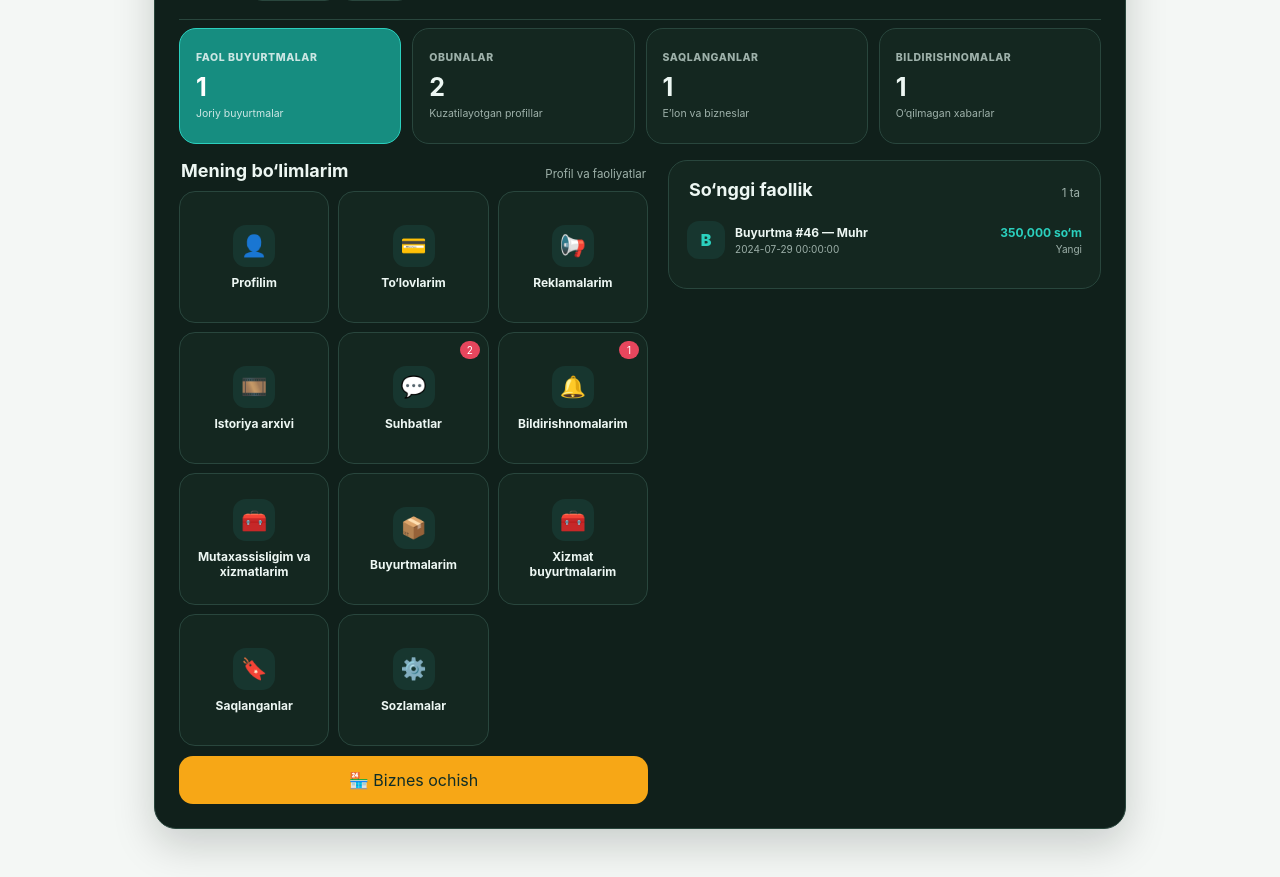
Test: profile cabinets › offers v1656 business opening when the user has no linked business
The image size is (1280, 877).
(page scrolled)
Click the button "🏪 Biznes ochish". click: (414, 780)
box: [179,756,648,804]
(page scrolled)
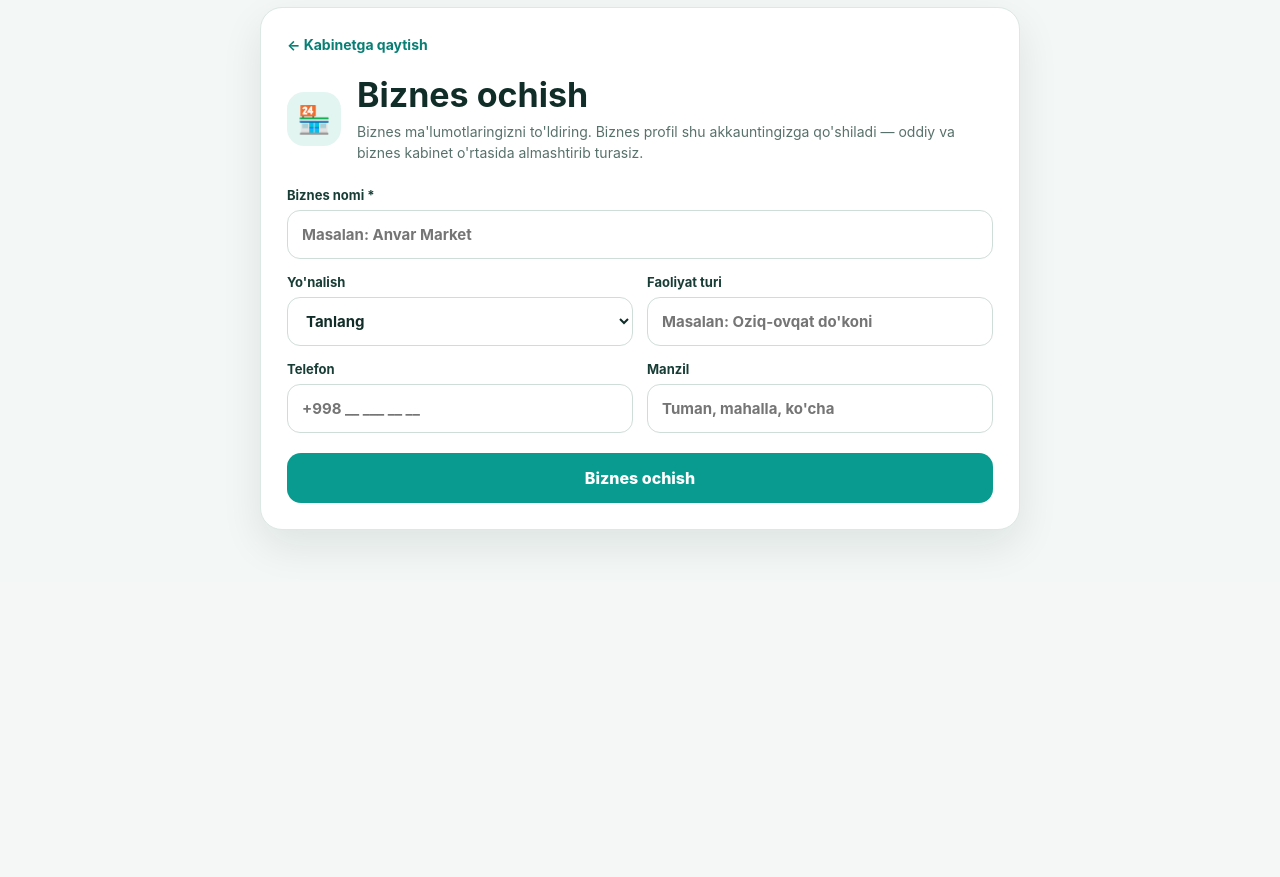
Now the heading "Biznes ochish" is shown, box [357,74,588,115]
Now the field labelled "Biznes nomi *" is shown, box [287,210,993,259]
